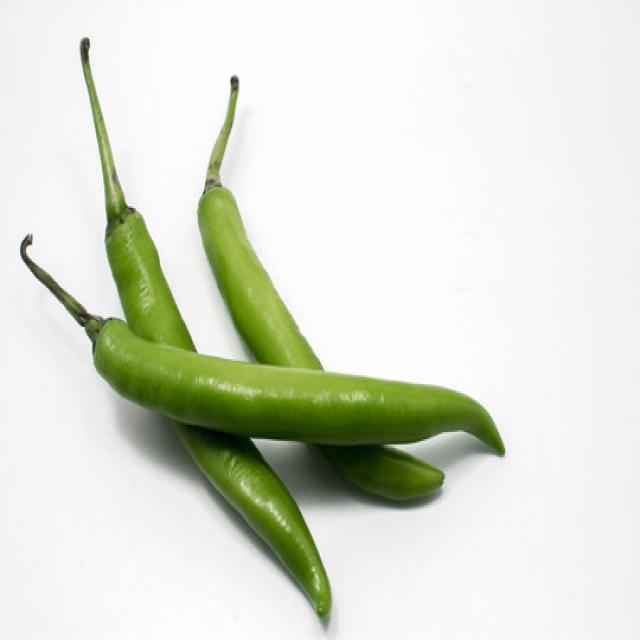Chilli: (19, 230, 504, 494), (196, 73, 324, 371), (78, 34, 197, 352), (168, 418, 332, 620), (316, 443, 444, 501)
